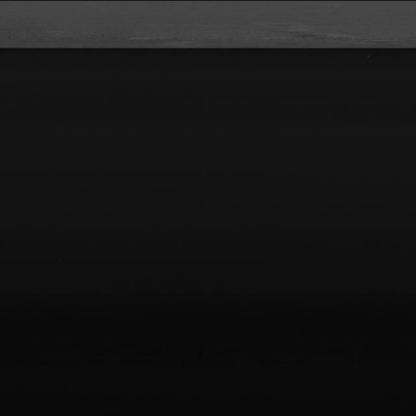silk_spot: (239, 12, 365, 42)
